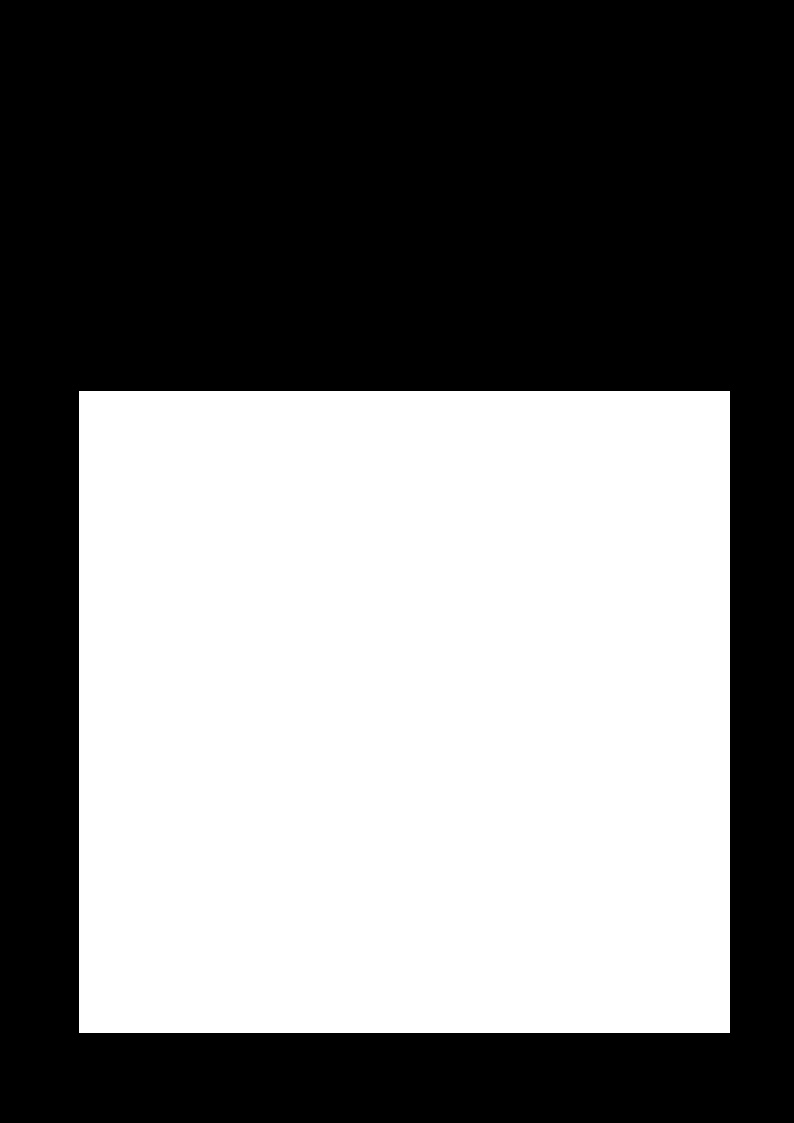table: (79, 391, 729, 1032)
